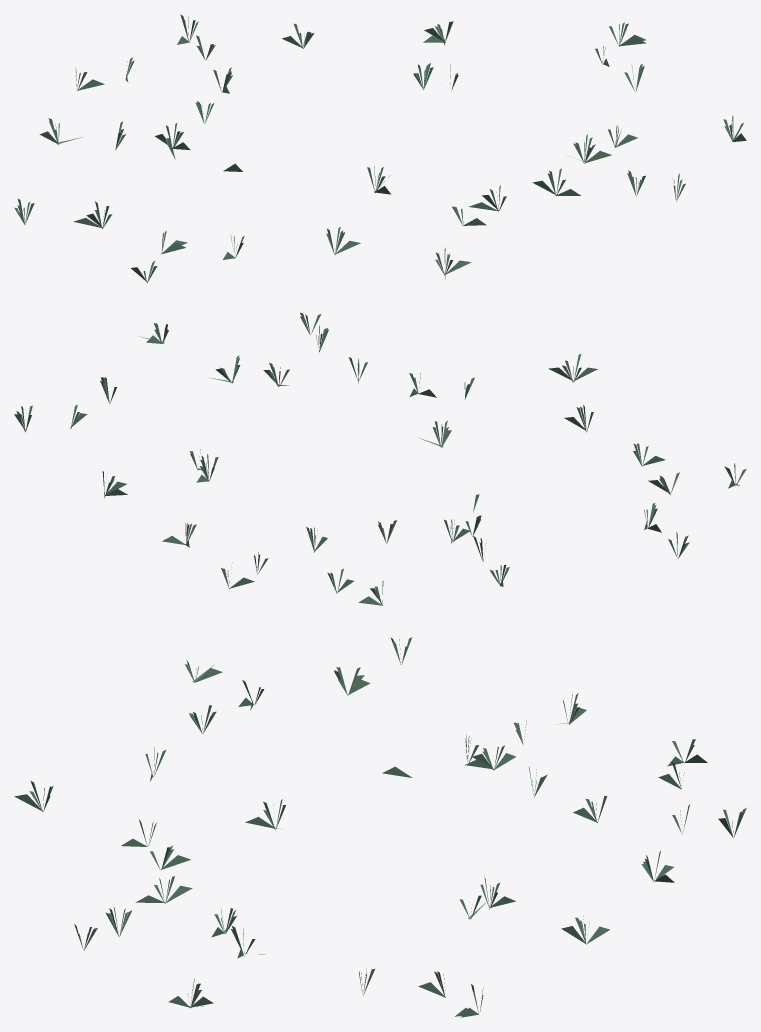
The model's file is teaching3-vegetation-20-far.glb.
3 renders of one model, top to bottom at view 1: azimuth 30°, elevation 25°; view 2: azimuth 150°, elevation 25°; view 3: azimuth 270°, elevation 25°, orthographic. The views are drawn at different scales.
Visible parts, largest first — view 1: mondo grass.003; view 2: mondo grass.003; view 3: mondo grass.003.
Part boxes in pixels (<box>): mondo grass.003: <box>14,14,746,283</box>; mondo grass.003: <box>14,312,746,605</box>; mondo grass.003: <box>14,637,746,1017</box>.
Bounding box in the file's own units: 12.49 × 0.4859 × 10.56.
